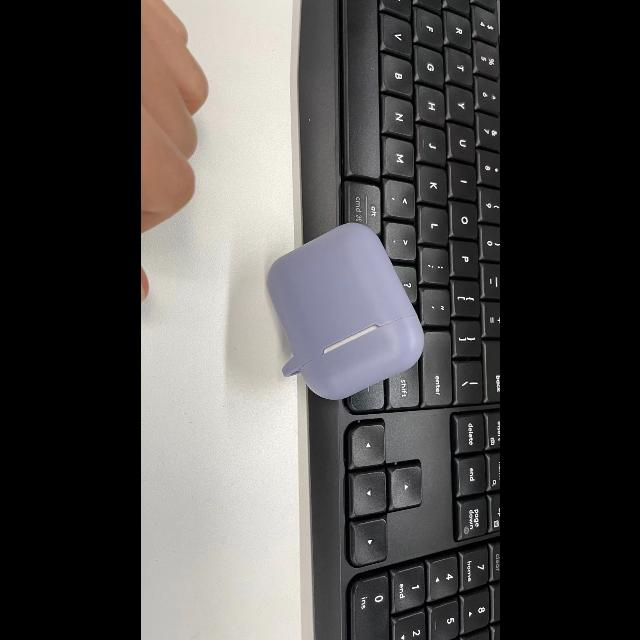airpods: (264, 220, 425, 404)
